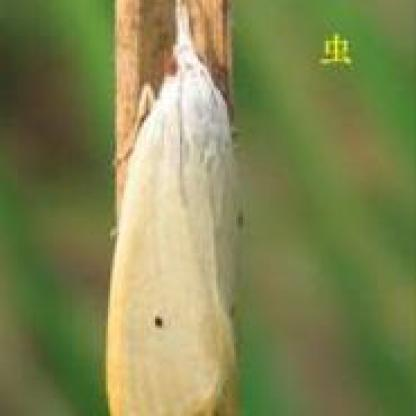stem-borer: (103, 0, 244, 416)
